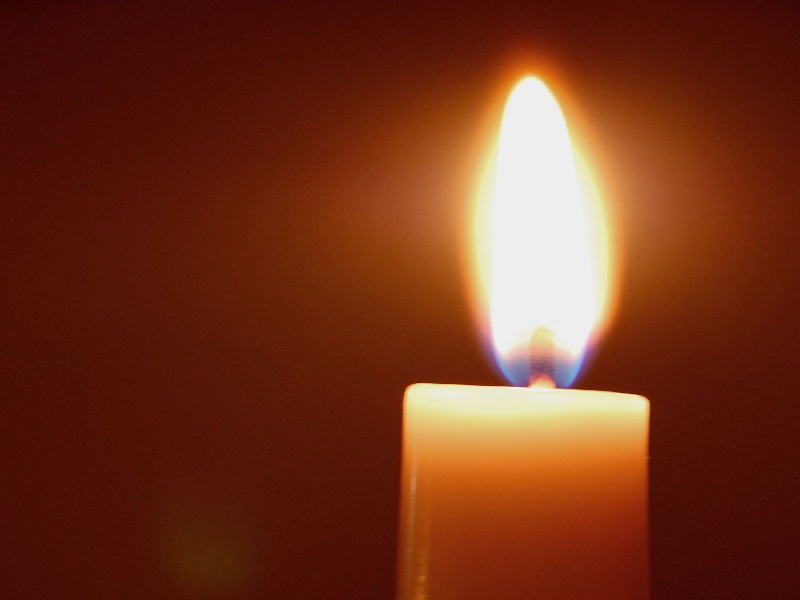fire: (480, 72, 600, 365)
